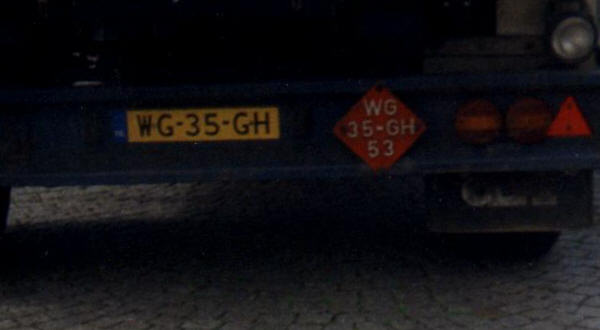license_plate: (113, 108, 280, 143)
